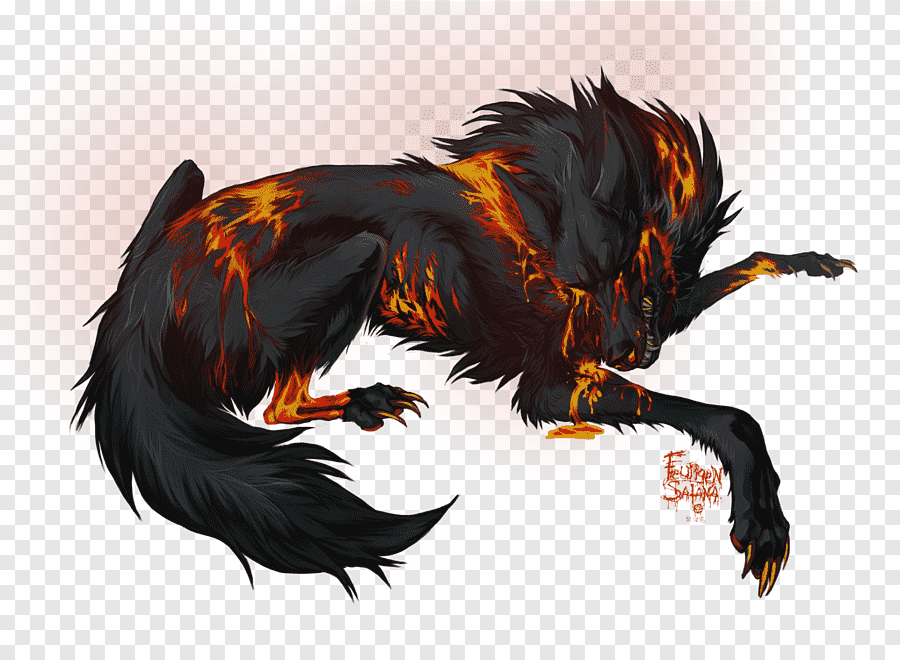Lobo: (127, 78, 842, 620)
